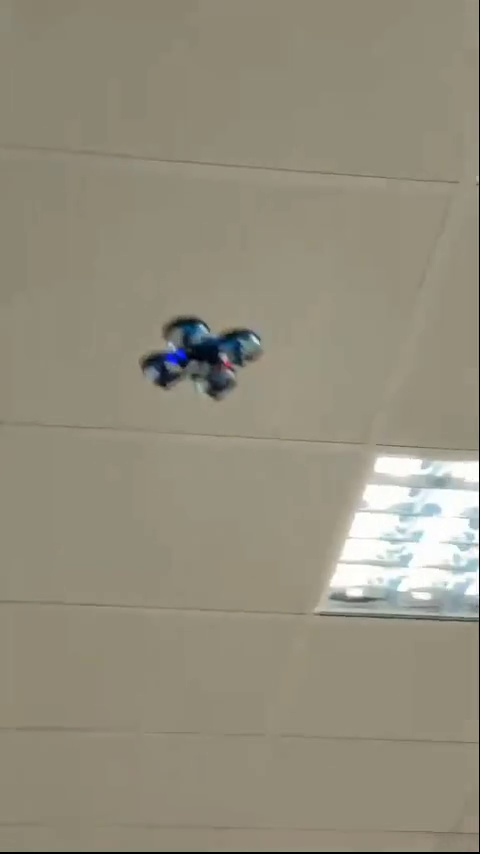drone: (138, 321, 259, 402)
